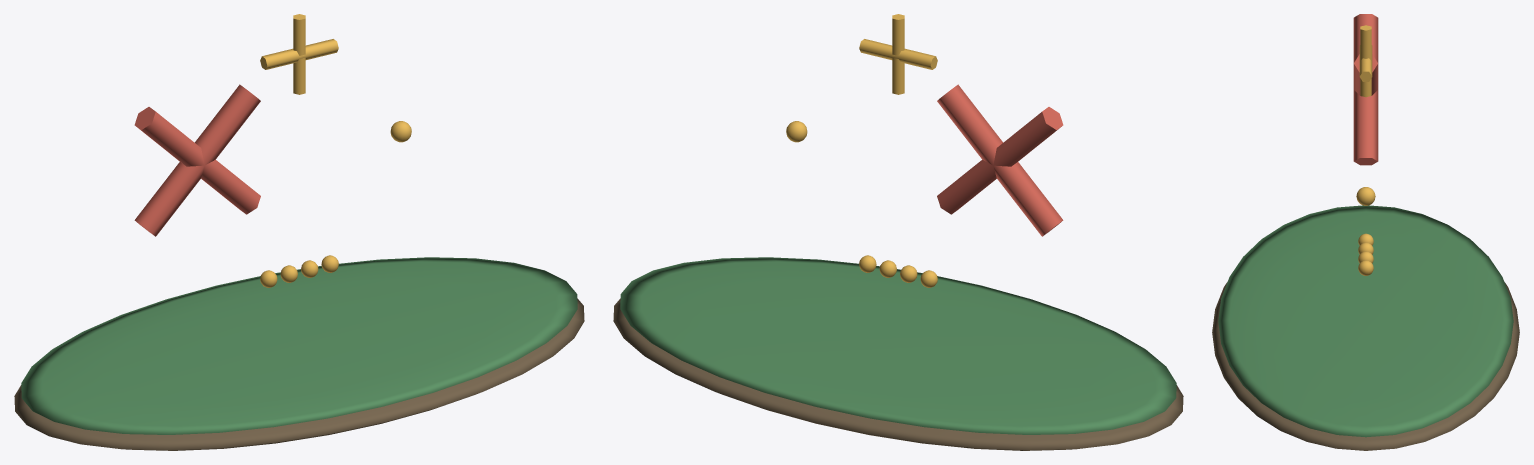
File: complete-second-not-only-one.glb
The picture shows the model from 3 angles, left to right: view 1: azimuth 30°, elevation 25°; view 2: azimuth 150°, elevation 25°; view 3: azimuth 270°, elevation 25°; orthographic projection. The views are drawn at different scales.
Parts seen in each view (by area): view 1: complete-second-not-only-one_surface_01, complete-second-not-only-one_surface_00, complete-second-not-only-one_surface_02, complete-second-not-only-one_surface_03; view 2: complete-second-not-only-one_surface_01, complete-second-not-only-one_surface_00, complete-second-not-only-one_surface_02, complete-second-not-only-one_surface_03; view 3: complete-second-not-only-one_surface_01, complete-second-not-only-one_surface_00, complete-second-not-only-one_surface_02, complete-second-not-only-one_surface_03.
Part boxes in pixels (bbox=[...]): complete-second-not-only-one_surface_01: bbox=[21, 257, 577, 434]; complete-second-not-only-one_surface_00: bbox=[14, 298, 584, 450]; complete-second-not-only-one_surface_02: bbox=[134, 84, 260, 236]; complete-second-not-only-one_surface_03: bbox=[260, 14, 411, 287]; complete-second-not-only-one_surface_01: bbox=[620, 257, 1176, 434]; complete-second-not-only-one_surface_00: bbox=[613, 298, 1183, 450]; complete-second-not-only-one_surface_02: bbox=[937, 84, 1063, 236]; complete-second-not-only-one_surface_03: bbox=[786, 14, 937, 287]; complete-second-not-only-one_surface_01: bbox=[1218, 205, 1513, 437]; complete-second-not-only-one_surface_00: bbox=[1212, 282, 1519, 450]; complete-second-not-only-one_surface_02: bbox=[1353, 14, 1378, 165]; complete-second-not-only-one_surface_03: bbox=[1356, 25, 1375, 275].
Bounding box in the file's own units: 4.56 × 2.86 × 2.5.
